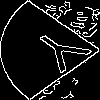Y: (25, 24, 100, 81)
